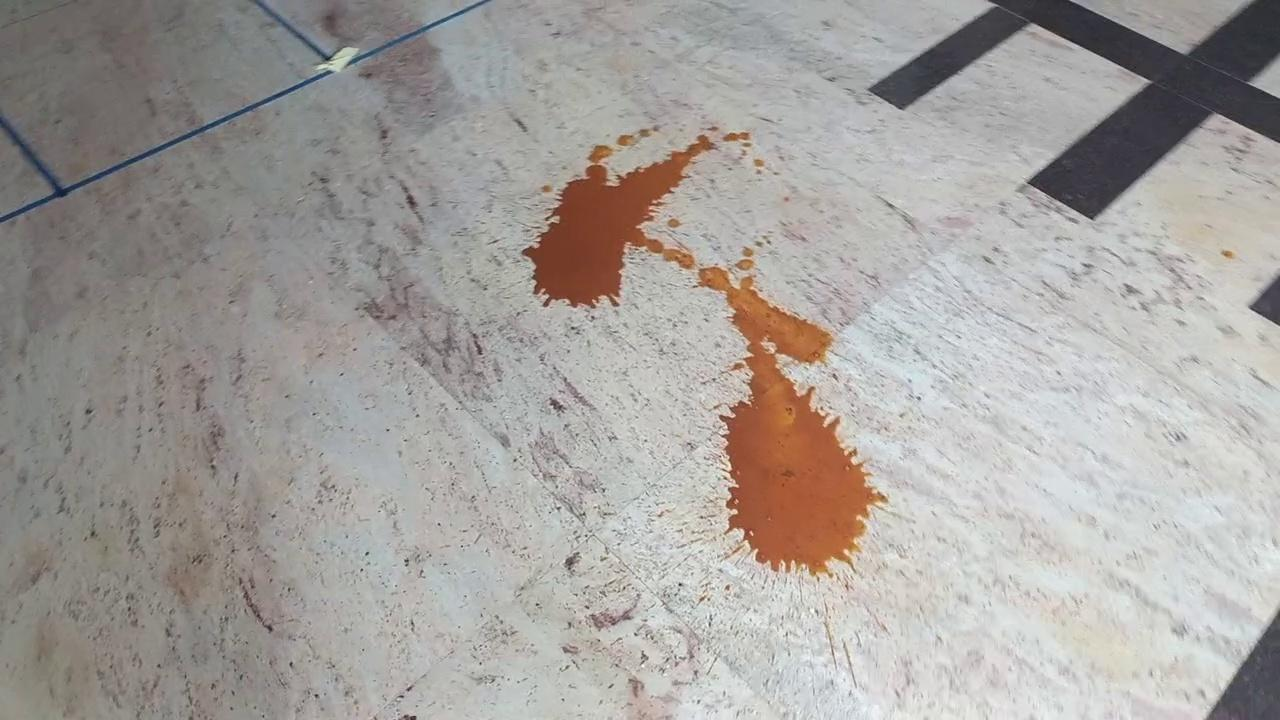dirty_floor: (533, 122, 889, 572)
